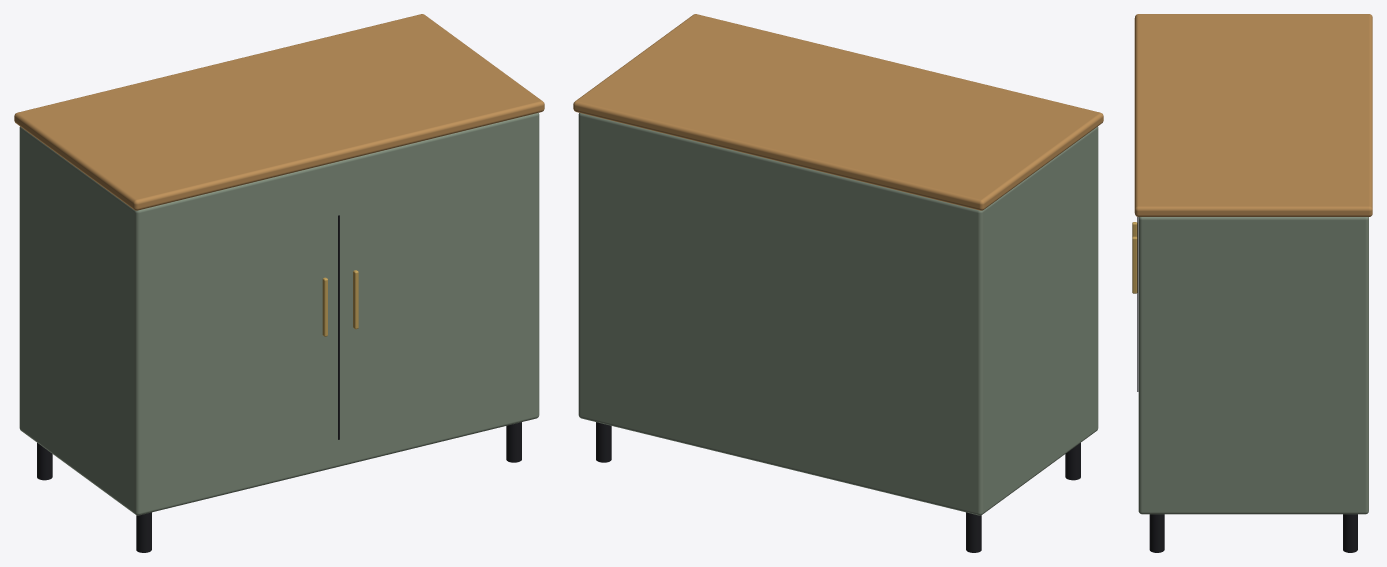
File: painted_wooden_cabinet.gltf
The picture shows the model from 3 angles, left to right: view 1: azimuth 30°, elevation 25°; view 2: azimuth 150°, elevation 25°; view 3: azimuth 270°, elevation 25°; orthographic projection. The views are drawn at different scales.
Visible parts, largest first — view 1: painted_wooden_cabinet; view 2: painted_wooden_cabinet; view 3: painted_wooden_cabinet.
Boxes of the visible parts, x1,y1,x2,y2 form: painted_wooden_cabinet: [14, 14, 544, 552]; painted_wooden_cabinet: [573, 14, 1103, 552]; painted_wooden_cabinet: [1132, 14, 1372, 552].
Size of the model in its own units: 1.19 by 1 by 0.62.
